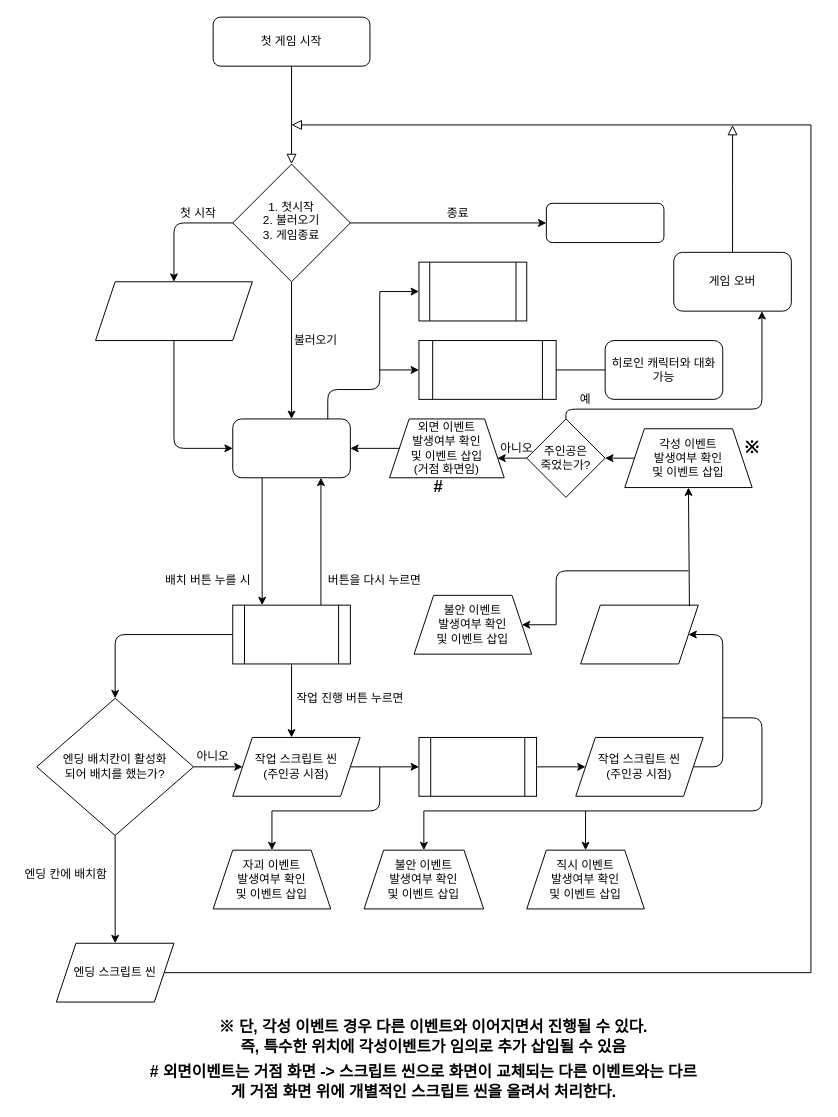
Image size: 838x1117. Some labels were removed from this diagram. The centre of each missing label's shape, as x and y in pixels:
거점 화면: [291,448]
게임 종료: [604,222]
이벤트 리스트 확인 가능: [472,291]
인원 배치: [291,634]
인트로 스크립트 씬: [173,311]
작업 선택지 제공: [477,766]
하루 결산 스크립트 씬: [639,634]
히로인 캐릭터 및 주인공 캐릭터 상태, 스탯, 관계 확인: [487,369]
